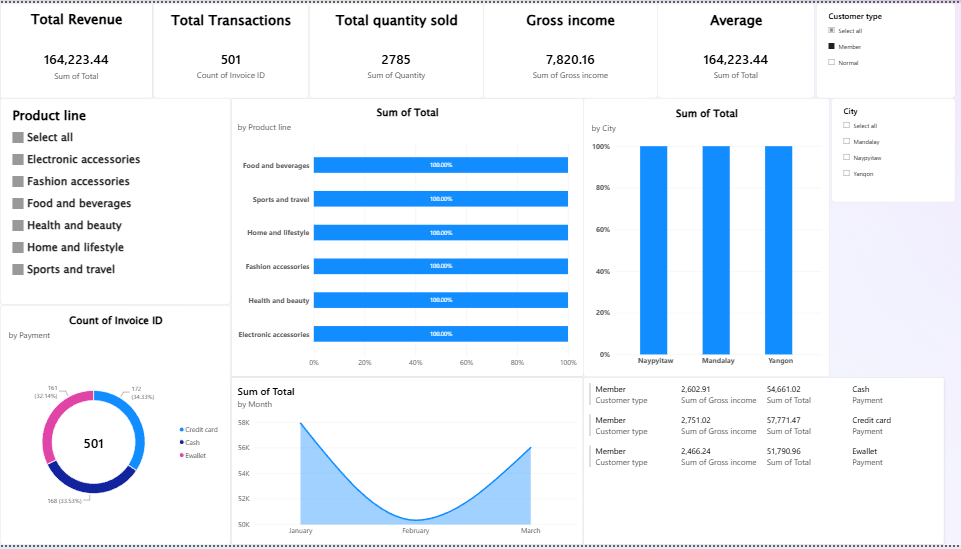

Layout of this report page (visuals, bound fields, positions):
{"tool":"powerbi","page":{"name":"Page 1","canvas":[1920,1080],"ordinal":0},"visuals":[{"type":"card","title":"Total Revenue","fields":{"Values":["Sum(sales_transformed.Total)"]},"box":[0,0,304,190],"z":0},{"type":"card","title":"Total Transactions","fields":{"Values":["Count(sales_transformed.Invoice ID)"]},"box":[305,0,310,190],"z":1000},{"type":"card","title":"Total quantity sold","fields":{"Values":["Sum(sales_transformed.Quantity)"]},"box":[615,0,348,190],"z":2000},{"type":"card","title":"Gross income","fields":{"Values":["Sum(sales_transformed.Gross income)"]},"box":[962.5,0,348,190],"z":3000},{"type":"card","title":"Average ","fields":{"Values":["Sum(sales_transformed.Total)"]},"box":[1310,0,314,190],"z":4000},{"type":"hundredPercentStackedBarChart","fields":{"Category":["sales_transformed.Product line"],"Y":["Sum(sales_transformed.Total)"]},"box":[460,190,702.5,555],"z":5000},{"type":"hundredPercentStackedColumnChart","fields":{"Category":["sales_transformed.City"],"Y":["Sum(sales_transformed.Total)"]},"box":[1162.5,190,492,556],"z":6000},{"type":"donutChart","fields":{"Category":["sales_transformed.Payment"],"Y":["CountNonNull(sales_transformed.Invoice ID)"]},"box":[0,602,460,478],"z":7000},{"type":"stackedAreaChart","fields":{"Category":["sales_transformed.Date.Variation.Date Hierarchy.Month"],"Y":["Sum(sales_transformed.Total)"]},"box":[460,746,702,334],"z":8000},{"type":"slicer","fields":{"Values":["sales_transformed.Product line"]},"box":[0,190,460,412],"z":9000},{"type":"slicer","fields":{"Values":["sales_transformed.Customer type"]},"box":[1625,0,277.5,190],"z":10000},{"type":"slicer","fields":{"Values":["sales_transformed.City"]},"box":[1655,190,247.5,207.5],"z":11000},{"type":"multiRowCard","fields":{"Values":["sales_transformed.Customer type","Sum(sales_transformed.Gross income)","Sum(sales_transformed.Total)","sales_transformed.Payment"]},"box":[1162,746,720,334],"z":12000}]}

Visuals, with their boxes in screenshot pixels (x1, y1, x2, y2), scaled from the page's 1920x1080 canvas onto the 961x549 screenshot:
"Total Revenue" card: 0:0:152:97
"Total Transactions" card: 153:0:308:97
"Total quantity sold" card: 308:0:482:97
"Gross income" card: 482:0:656:97
"Average " card: 656:0:813:97
hundredPercentStackedBarChart - sales_transformed.Product line x Sum(sales_transformed.Total): 230:97:582:379
hundredPercentStackedColumnChart - sales_transformed.City x Sum(sales_transformed.Total): 582:97:828:379
donutChart - sales_transformed.Payment x CountNonNull(sales_transformed.Invoice ID): 0:306:230:548
stackedAreaChart - sales_transformed.Date.Variation.Date Hierarchy.Month x Sum(sales_transformed.Total): 230:379:582:548
slicer - sales_transformed.Product line: 0:97:230:306
slicer - sales_transformed.Customer type: 813:0:952:97
slicer - sales_transformed.City: 828:97:952:202
multiRowCard - sales_transformed.Customer type x Sum(sales_transformed.Gross income): 582:379:942:548
